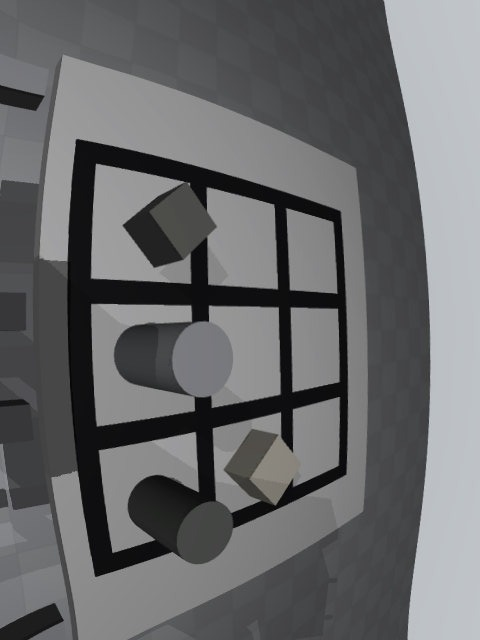can: (114, 321, 233, 397)
cube: (123, 182, 217, 268)
cylinder: (128, 475, 234, 564)
foam: (224, 429, 301, 506)
